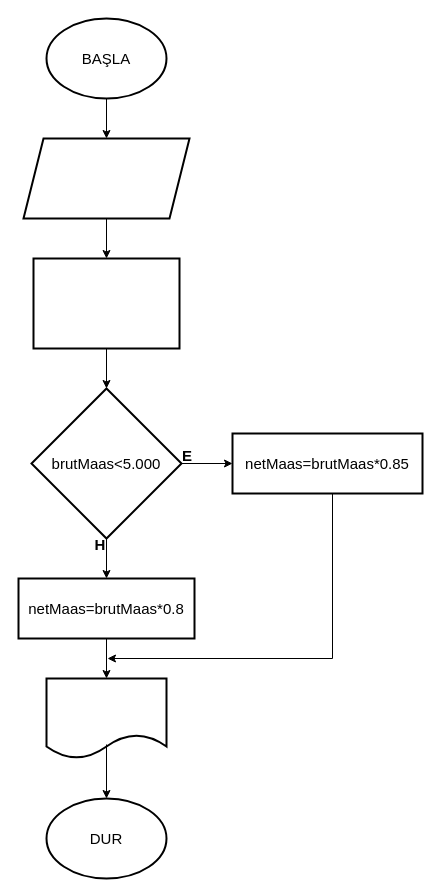
Image size: 440x896. Some labels were removed from this diagram. Each missing label, with the centre of its shape:
"brutMaas" goes at point 106,178.
"netMaas" goes at point 106,718.
"vergi netMaas" goes at point 106,303.
